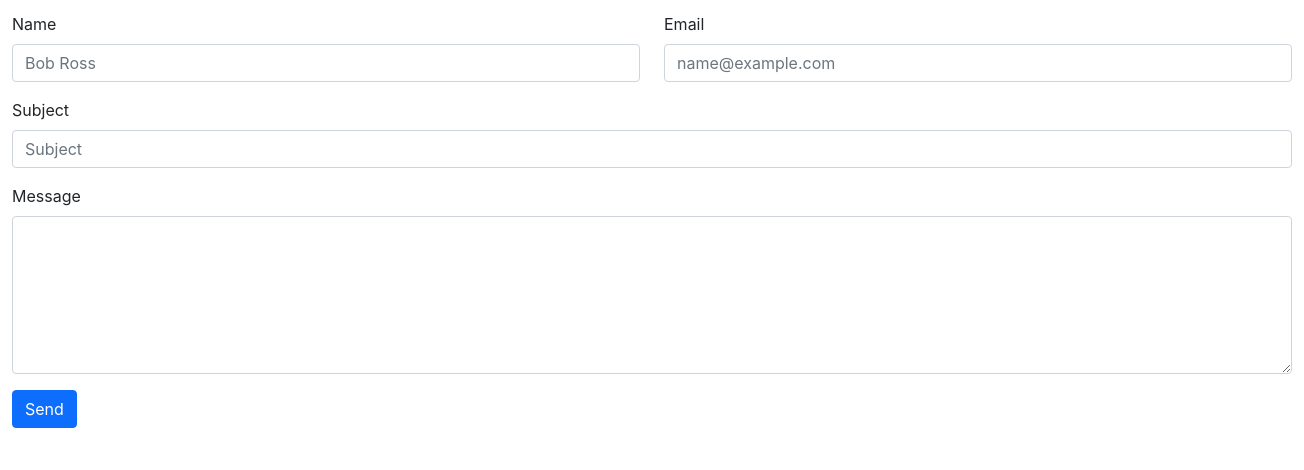
Scenario: should submit display form errors when form is bad
The width and height of the screenshot is (1304, 470).
Type "testing@testing.com" into the field with test id "email" at x=978, y=63, box left=664, top=44, right=1292, bottom=82
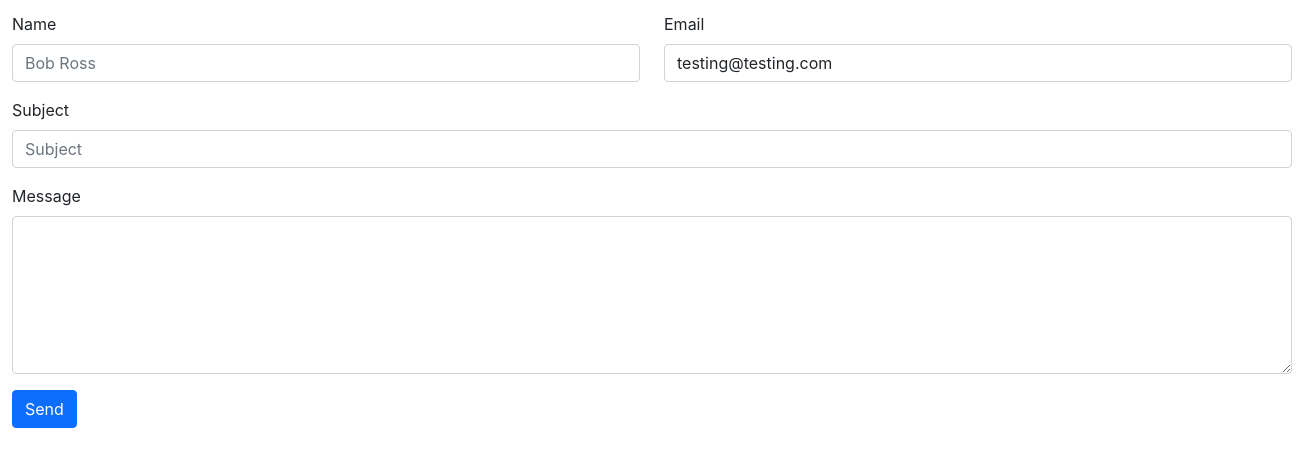
Type "Hello there Sir" into the field with test id "subject" at x=652, y=149, box left=12, top=130, right=1292, bottom=168
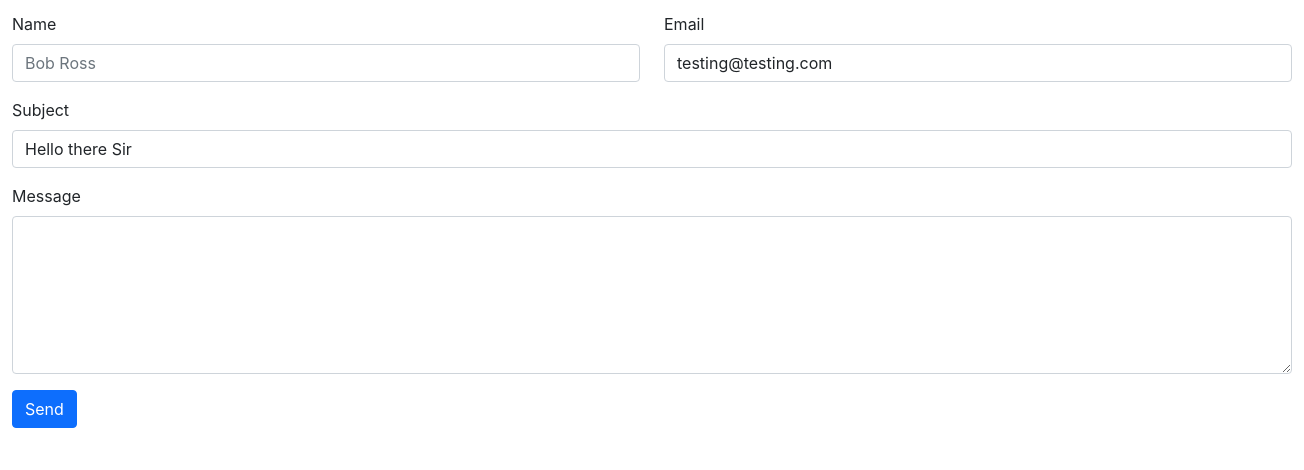
Type "What up Testing McTesterson!" into the text box with test id "message" at x=652, y=295, box left=12, top=216, right=1292, bottom=374
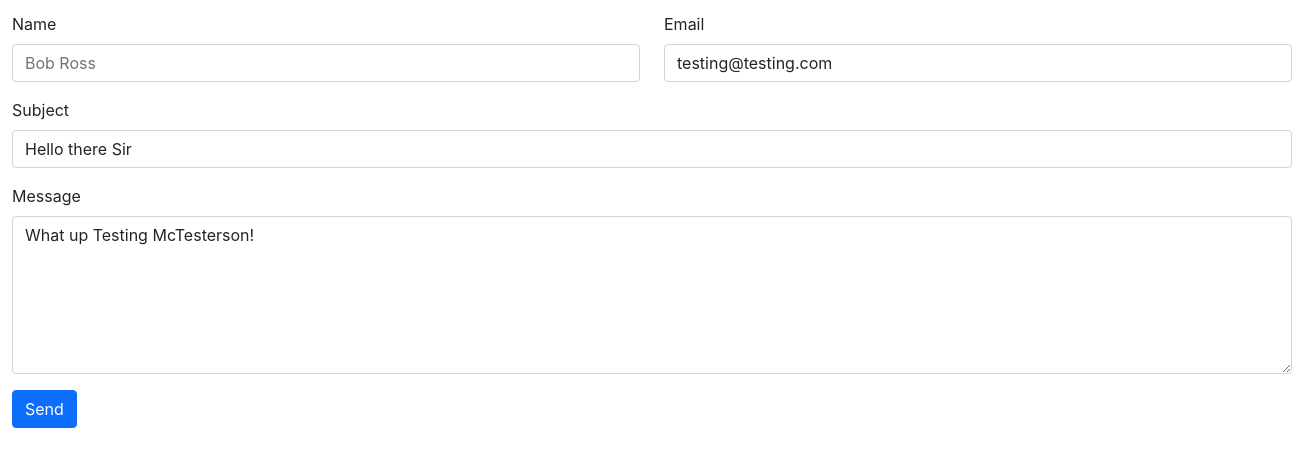
Click the button with test id "submit" at x=44, y=409, box left=12, top=390, right=77, bottom=428
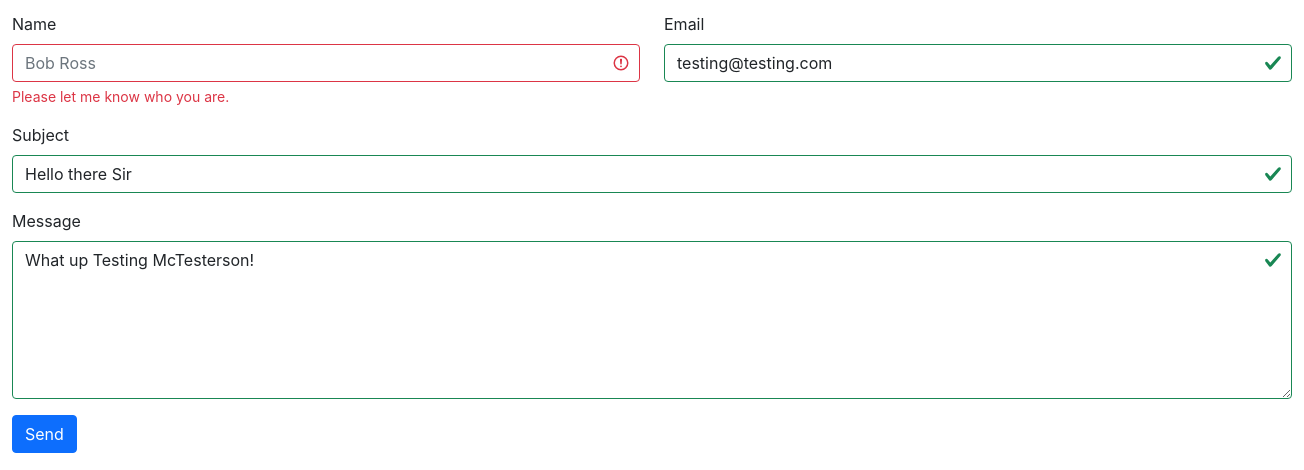
Check: the text "Please let me know who you are." is shown, box left=12, top=88, right=229, bottom=105
